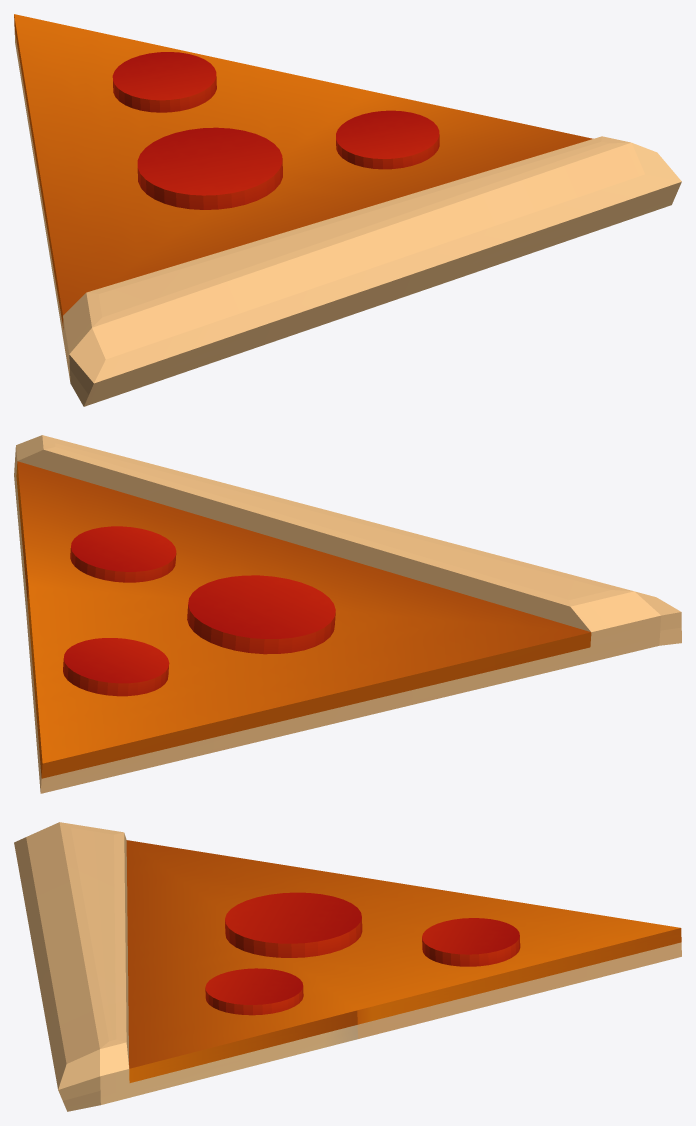
File: Pizza - Health.fbx
3 renders of one model, top to bottom at view 1: azimuth 30°, elevation 25°; view 2: azimuth 150°, elevation 25°; view 3: azimuth 270°, elevation 25°, orthographic. The views are drawn at different scales.
Parts seen in each view (by area): view 1: Pizza Slice.003; view 2: Pizza Slice.003; view 3: Pizza Slice.003.
Boxes of the visible parts, x1,y1,x2,y2 form: Pizza Slice.003: (14, 14, 681, 406); Pizza Slice.003: (14, 435, 681, 793); Pizza Slice.003: (14, 822, 681, 1111).
Bounding box in the file's own units: 169 × 23.83 × 168.
